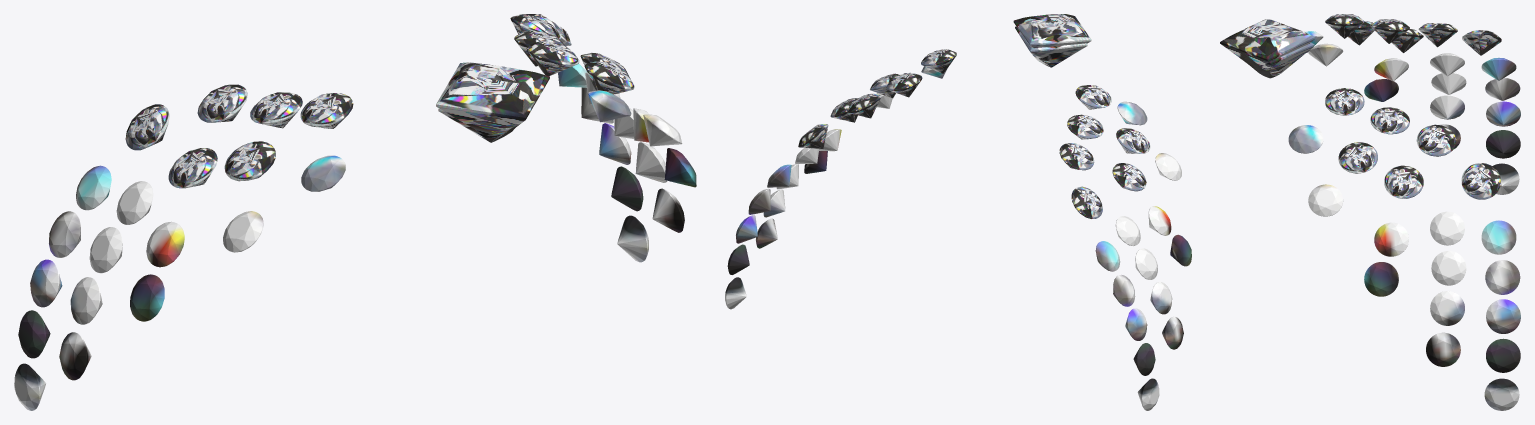
The picture shows the model from 3 angles, left to right: view 1: azimuth 30°, elevation 25°; view 2: azimuth 150°, elevation 25°; view 3: azimuth 270°, elevation 25°; orthographic projection. The views are drawn at different scales.
Visible parts, largest first — view 1: Object_10, Object_40, Object_11, Object_7, Object_9, Object_41, Object_38, Object_5, Object_4, Object_36, Object_35, Object_39 (+19 smaller); view 2: Object_10, Object_13, Object_11, Object_9, Object_7, Object_38, Object_41, Object_40, Object_37, Object_39, Object_30, Object_8 (+19 smaller); view 3: Object_10, Object_12, Object_6, Object_8, Object_14, Object_18, Object_22, Object_17, Object_21, Object_1, Object_19, Object_20 (+26 smaller).
Part boxes in pixels (bbox=[...]): Object_10: bbox=[436, 62, 549, 135]; Object_40: bbox=[224, 141, 275, 181]; Object_11: bbox=[125, 104, 169, 150]; Object_7: bbox=[168, 148, 217, 188]; Object_9: bbox=[197, 84, 247, 122]; Object_41: bbox=[300, 93, 353, 128]; Object_38: bbox=[250, 92, 302, 128]; Object_5: bbox=[146, 221, 184, 267]; Object_4: bbox=[130, 274, 164, 321]; Object_36: bbox=[223, 211, 263, 252]; Object_35: bbox=[301, 155, 345, 191]; Object_39: bbox=[526, 41, 579, 75]; Object_10: bbox=[1013, 14, 1091, 48]; Object_13: bbox=[1015, 26, 1087, 67]; Object_11: bbox=[1071, 186, 1102, 218]; Object_9: bbox=[1059, 143, 1094, 170]; Object_7: bbox=[1112, 163, 1146, 191]; Object_38: bbox=[1067, 114, 1103, 139]; Object_41: bbox=[1075, 85, 1111, 109]; Object_40: bbox=[1116, 128, 1150, 153]; Object_37: bbox=[886, 72, 922, 97]; Object_39: bbox=[921, 49, 956, 73]; Object_30: bbox=[1095, 241, 1120, 271]; Object_8: bbox=[847, 93, 881, 118]; Object_10: bbox=[1220, 19, 1315, 70]; Object_12: bbox=[1461, 163, 1500, 199]; Object_6: bbox=[1384, 165, 1423, 198]; Object_8: bbox=[1416, 124, 1456, 156]; Object_14: bbox=[1338, 142, 1377, 173]; Object_18: bbox=[1485, 260, 1520, 294]; Object_22: bbox=[1431, 251, 1466, 285]; Object_17: bbox=[1486, 299, 1520, 333]; Object_21: bbox=[1430, 291, 1464, 325]; Object_1: bbox=[1364, 262, 1398, 296]; Object_19: bbox=[1481, 220, 1516, 254]; Object_20: bbox=[1426, 332, 1460, 366].
Size of the model in its own units: 22.4 by 12.92 by 12.94.
1 material, 1 textured.
